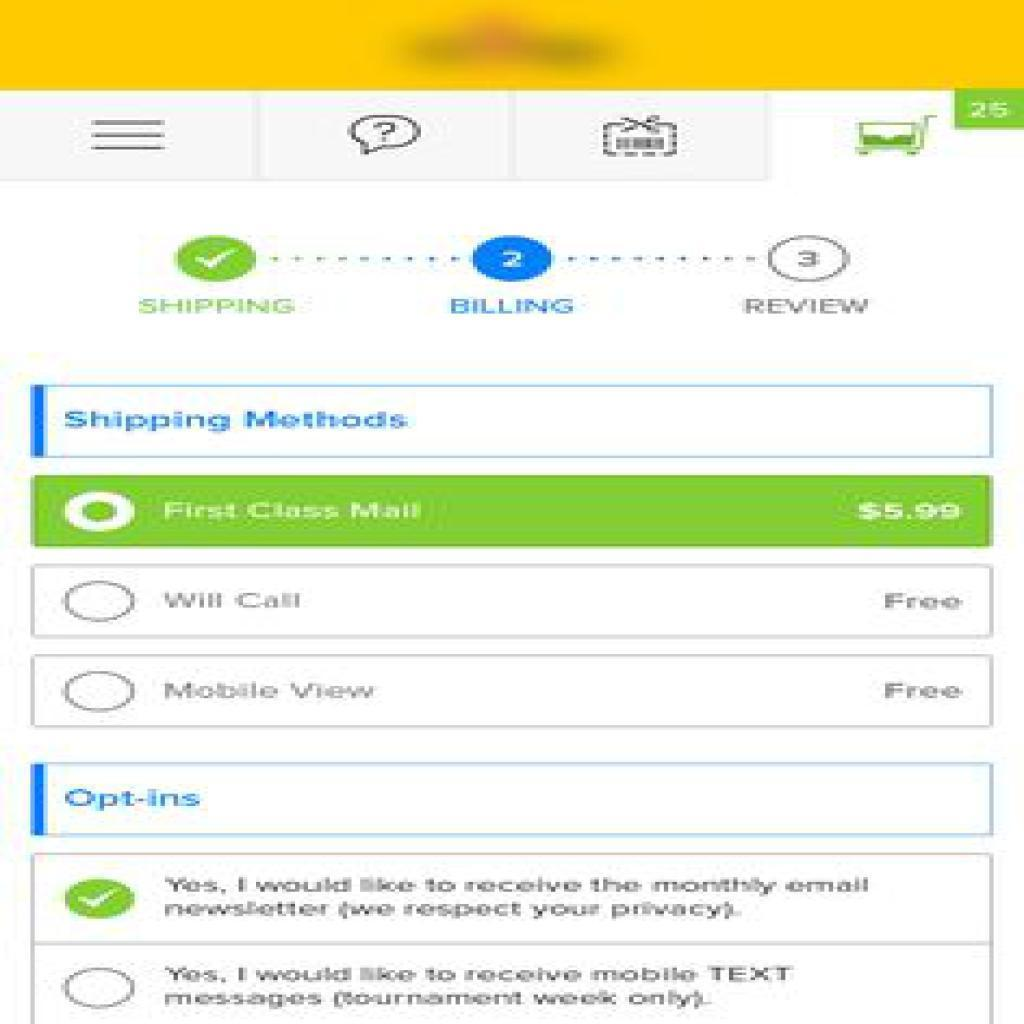icon: (82, 112, 183, 165), (596, 111, 693, 164), (345, 113, 424, 156)
label: (169, 954, 818, 1016), (165, 871, 884, 925), (57, 400, 422, 443), (162, 494, 433, 529), (157, 674, 380, 709), (62, 777, 222, 824), (164, 580, 312, 621), (859, 490, 962, 529), (882, 672, 966, 707), (880, 589, 965, 616)
radio: (59, 581, 140, 625), (62, 491, 139, 537), (63, 964, 138, 1009), (62, 670, 138, 714), (65, 878, 137, 923)
